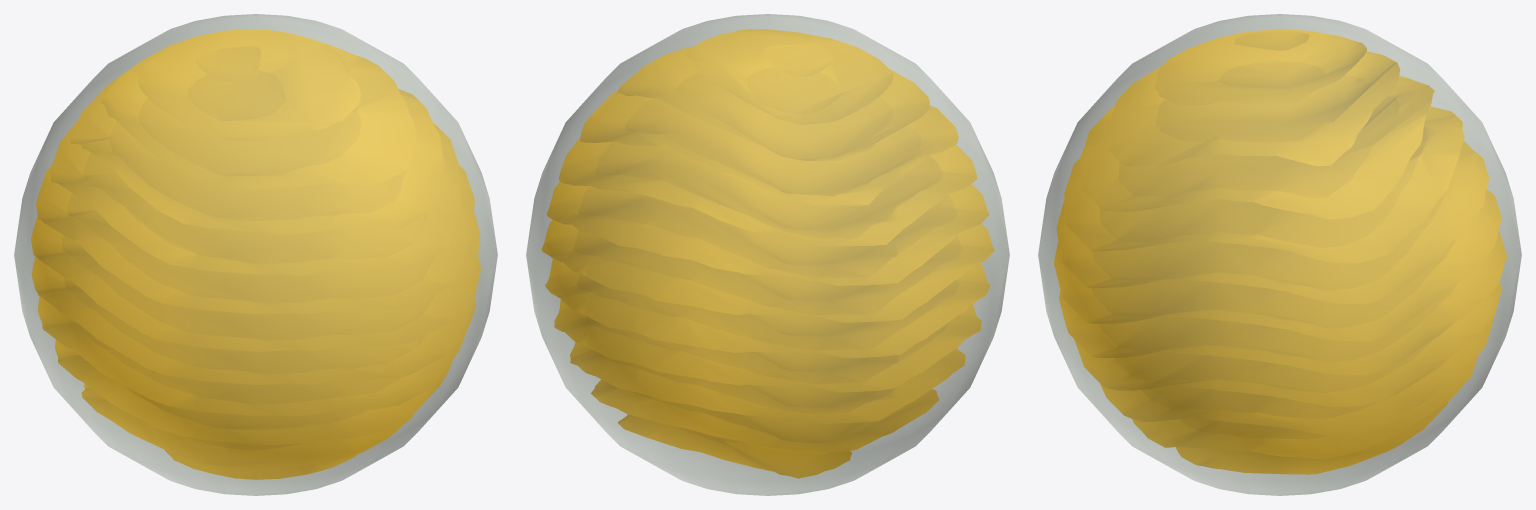
The model's file is Layers - orange.fbx.
The picture shows the model from 3 angles, left to right: view 1: azimuth 30°, elevation 25°; view 2: azimuth 150°, elevation 25°; view 3: azimuth 270°, elevation 25°; orthographic projection.
Parts seen in each view (by area): view 1: SketchUp; view 2: SketchUp; view 3: SketchUp.
Part boxes in pixels (box(x1,y1,x2,y2)): SketchUp: box(14, 14, 497, 495); SketchUp: box(526, 14, 1009, 495); SketchUp: box(1038, 14, 1521, 495).
Bounding box in the file's own units: 100 × 100 × 100.
